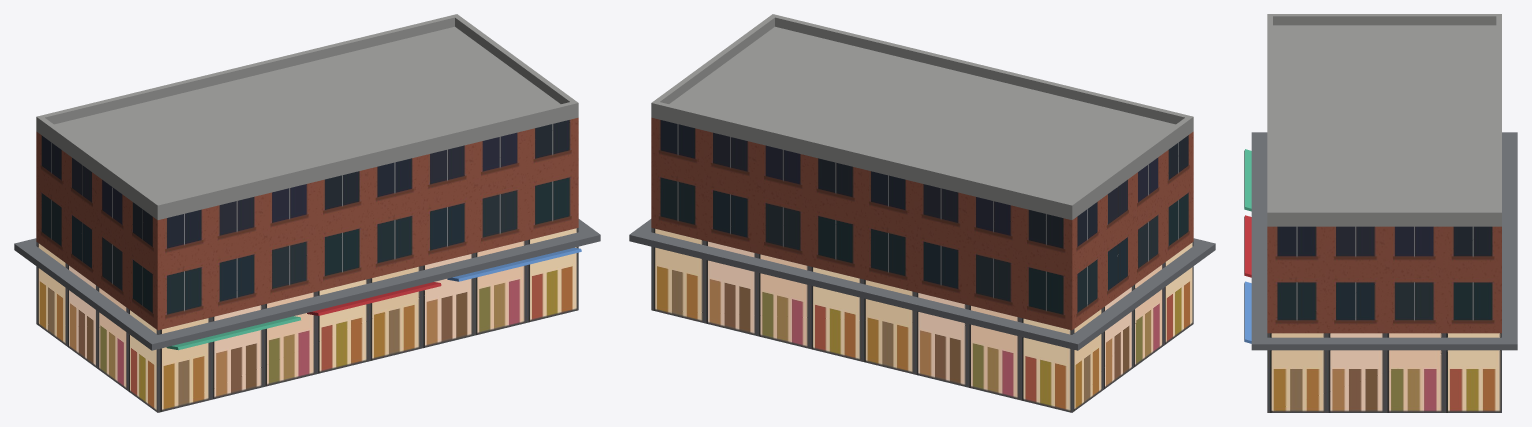
The model's file is shop_row.glb.
The picture shows the model from 3 angles, left to right: view 1: azimuth 30°, elevation 25°; view 2: azimuth 150°, elevation 25°; view 3: azimuth 270°, elevation 25°; orthographic projection. The views are drawn at different scales.
Visible parts, largest first — view 1: shop_row; view 2: shop_row; view 3: shop_row.
Boxes of the visible parts, x1,y1,x2,y2 form: shop_row: (14, 14, 600, 412); shop_row: (629, 14, 1215, 412); shop_row: (1244, 14, 1517, 412).
Bounding box in the file's own units: 25.6 × 11.3 × 13.97.
Materials: 7 (2 with a texture image).
